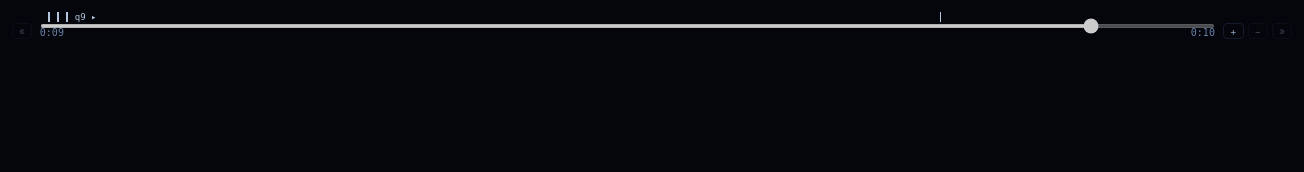
TideDock — one height, not mode-dependent (prd13 ruling 13, ex-#186 defect 4) › the axis appears once zoomed in live too — zoom is not replay-only
Click the button named "Zoom in": click(1233, 31) [1223, 23, 1244, 39]
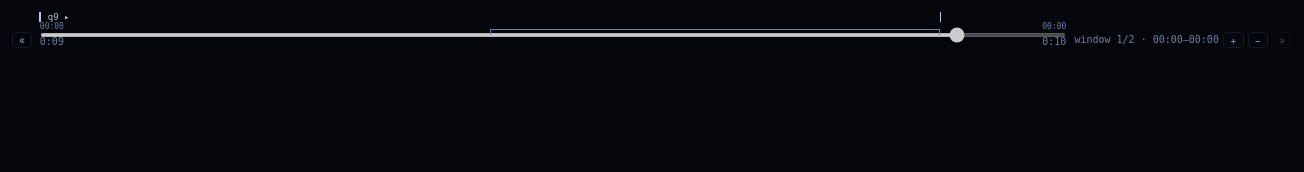
Expected: the element with test id "tide-axis" is shown, [40, 23, 1066, 31]
